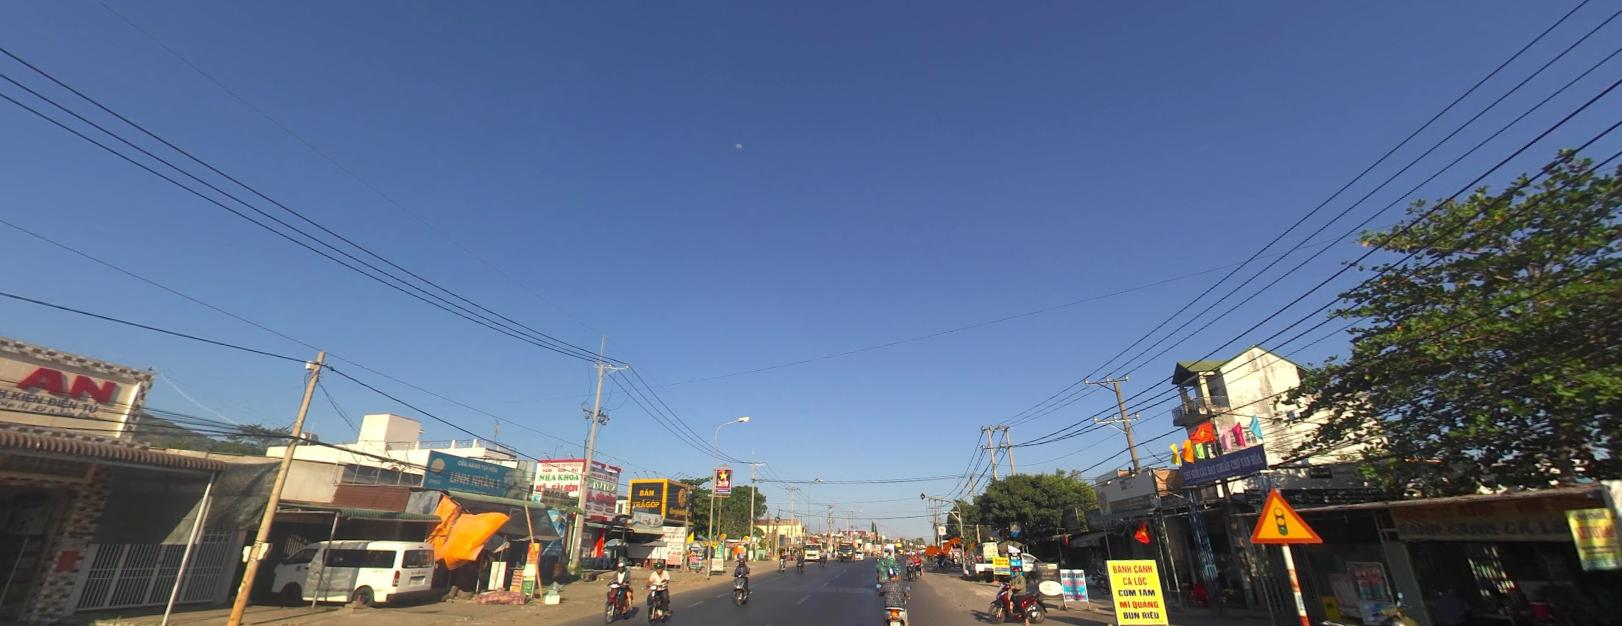Nguy hiem: (1246, 485, 1326, 545)
